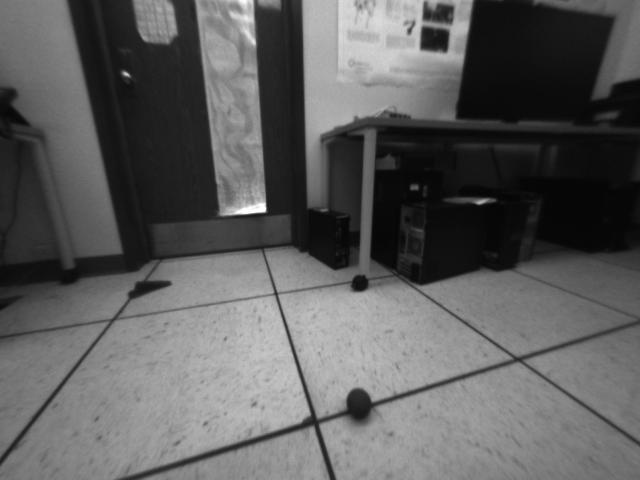dogtoy: (336, 379, 385, 428)
